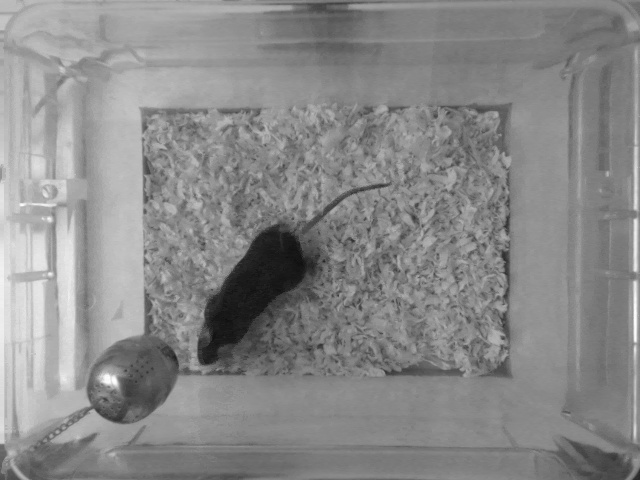mice: (195, 176, 399, 374)
